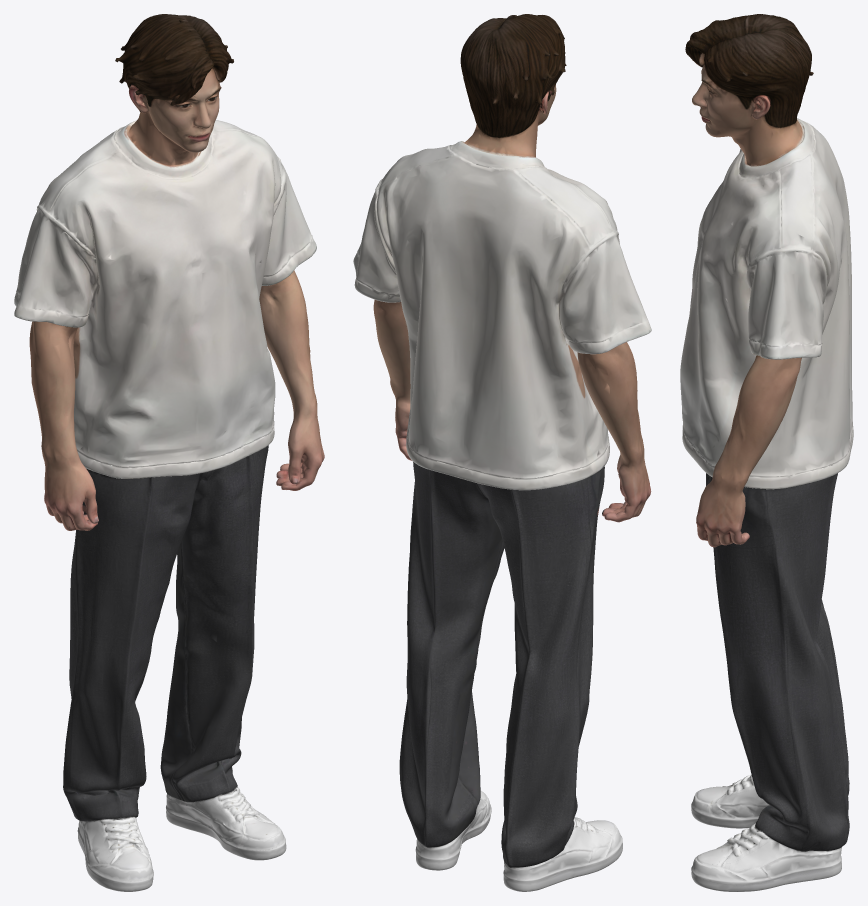
File: male-mobile.glb
3 views of the same model, side by side, from view 1: azimuth 30°, elevation 25°; view 2: azimuth 150°, elevation 25°; view 3: azimuth 270°, elevation 25° (orthographic).
Parts seen in each view (by area): view 1: Dada_male_complete_outfit; view 2: Dada_male_complete_outfit; view 3: Dada_male_complete_outfit.
Boxes of the visible parts, x1,y1,x2,y2 form: Dada_male_complete_outfit: [14, 14, 324, 891]; Dada_male_complete_outfit: [353, 14, 651, 891]; Dada_male_complete_outfit: [680, 14, 853, 891].
Size of the model in its own units: 0.3666 by 0.9806 by 0.1847.
1 material, 1 textured.
